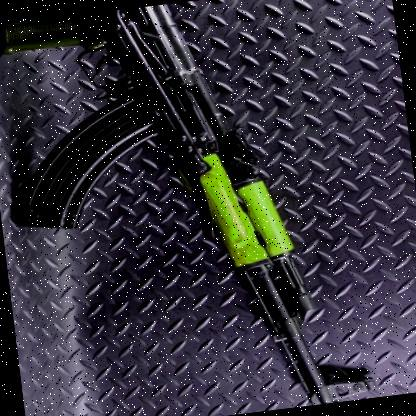rifle: (0, 0, 366, 416)
